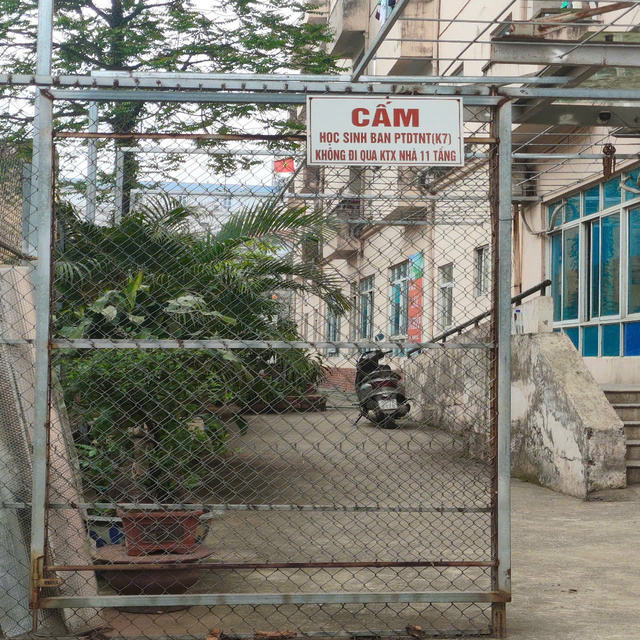laco: (271, 156, 301, 179)
